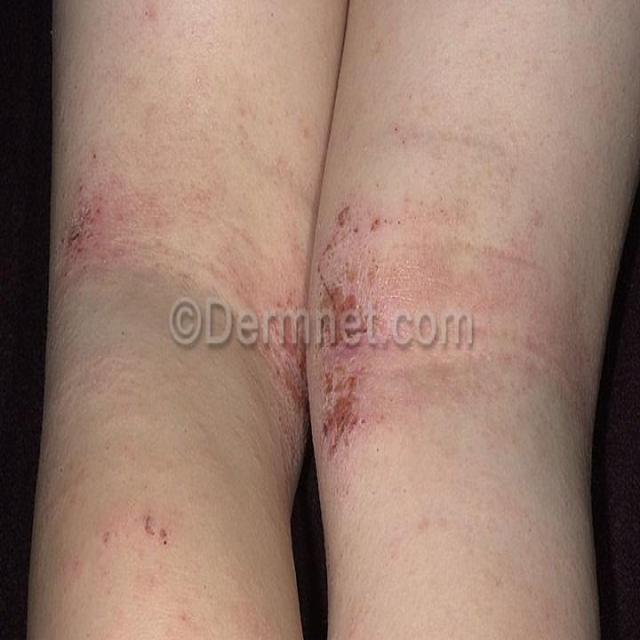Eczema: (305, 204, 410, 463), (56, 166, 146, 284), (132, 495, 182, 550)
